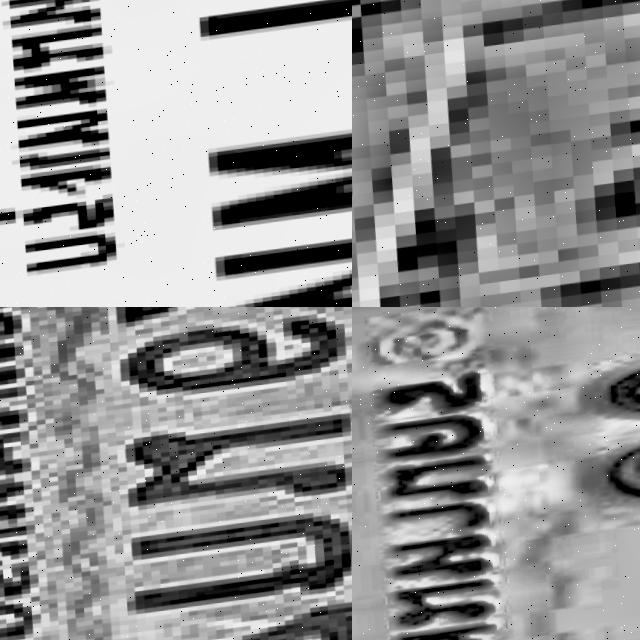license-plate: (0, 307, 352, 640), (0, 0, 352, 307), (352, 307, 640, 640), (352, 0, 640, 307)
